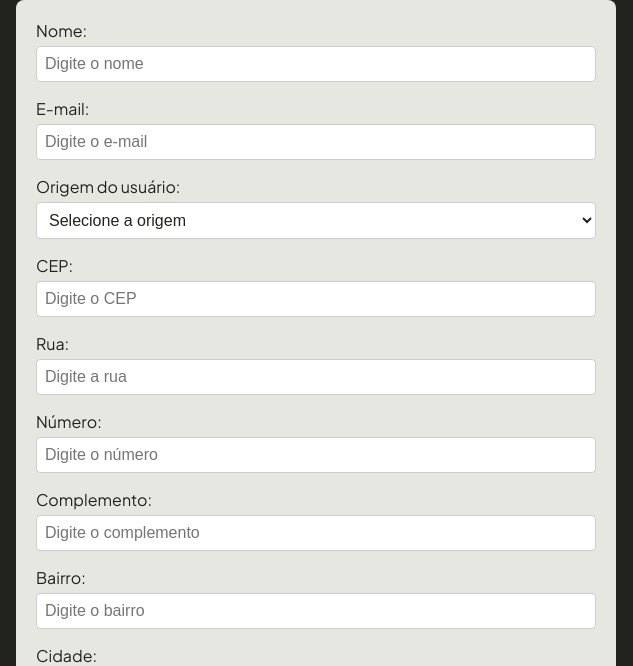
Test: FormRegisterUser › deve exibir mensagem de erro ao sair do campo de e-mail com valor inválido
Type "invalid-email" into the field with id "email". click: x=316, y=142
box: [36,124,596,160]
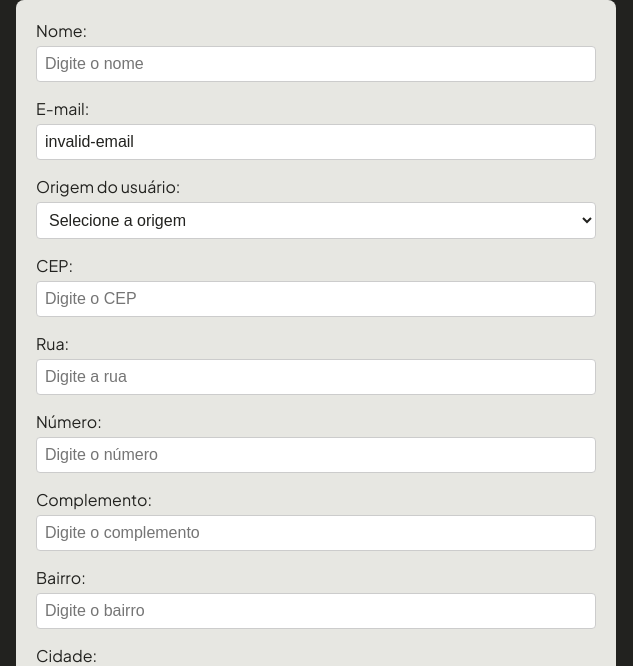
Leave the field with id "email", box [36,124,596,160]
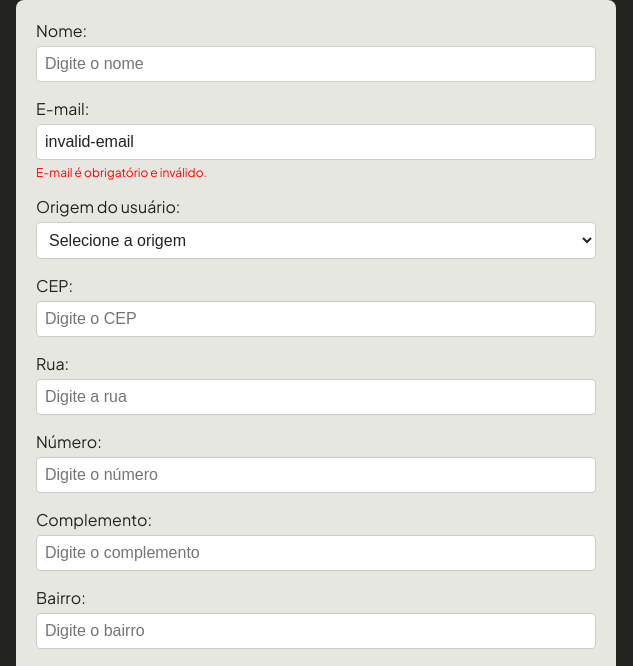
Check: the text with class "error" reads "E-mail é obrigatório e inválido.", box [36,165,207,180]
